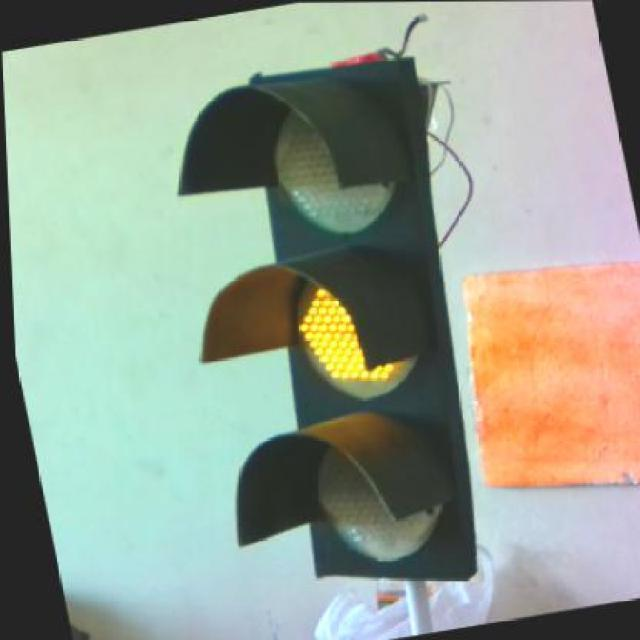yellow_light: (232, 52, 474, 578)
